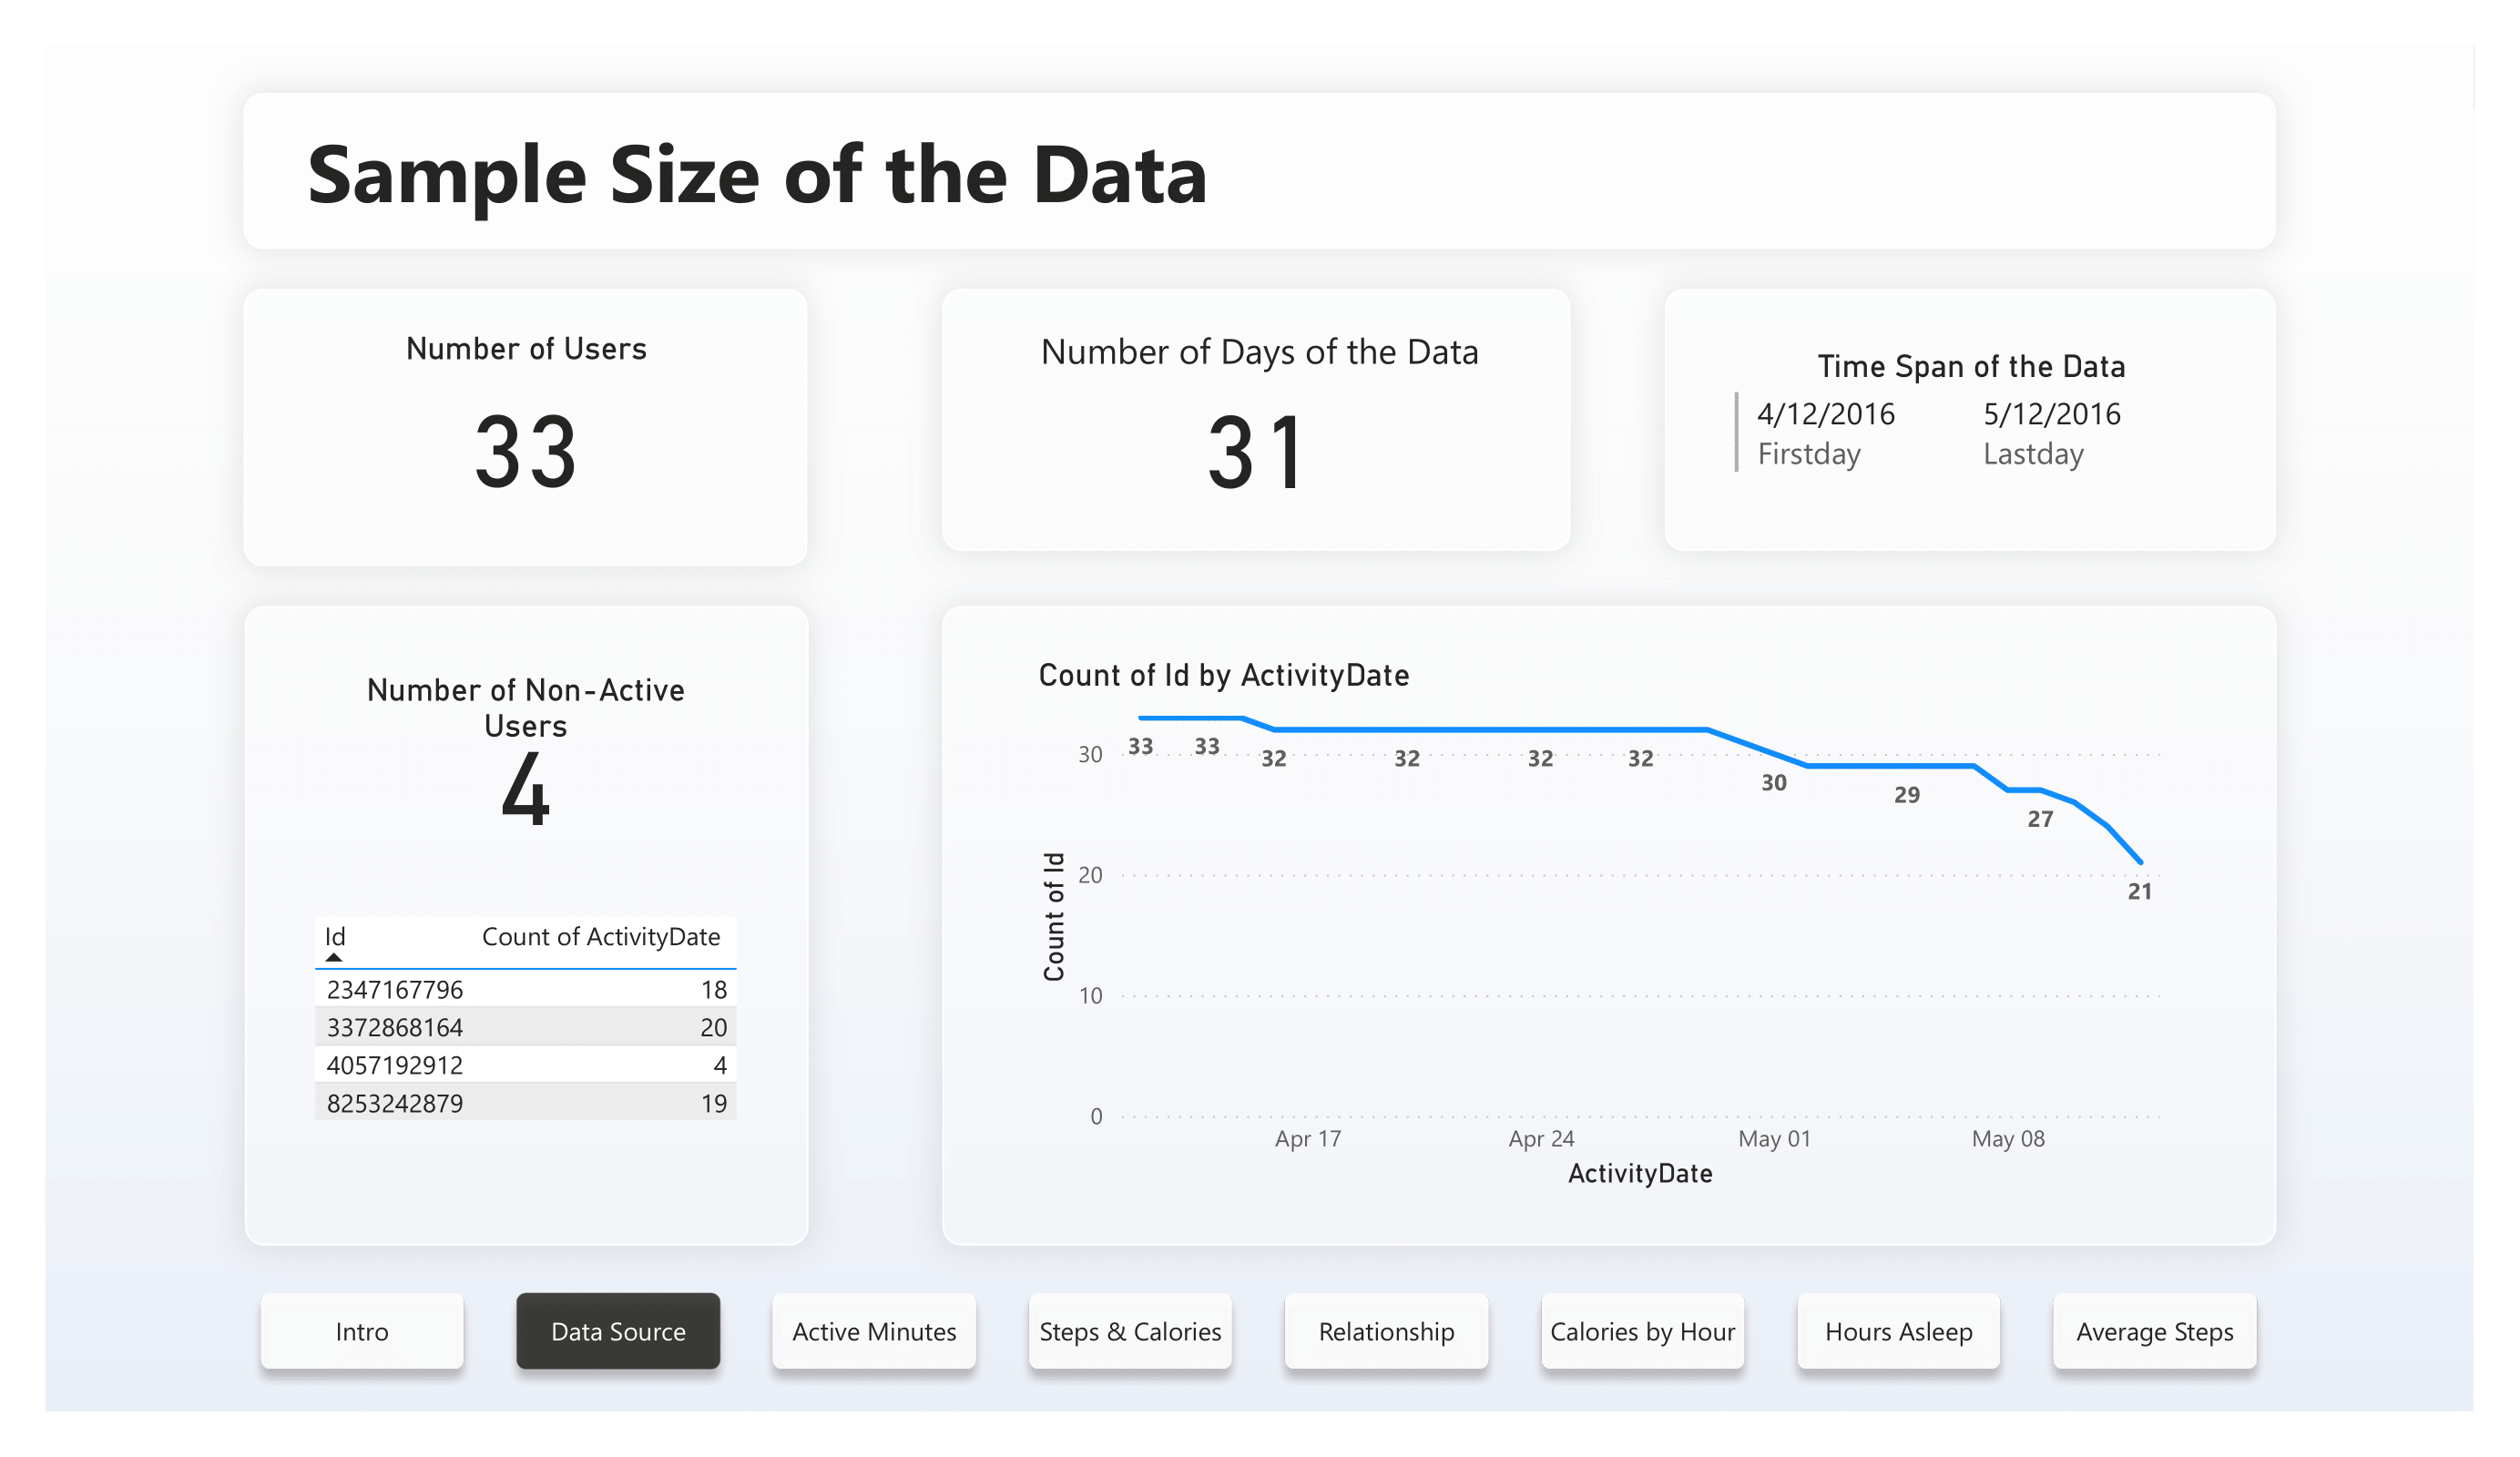

Layout of this report page (visuals, bound fields, positions):
{"tool":"powerbi","page":{"name":"Data Source","canvas":[1280,720],"ordinal":1},"visuals":[{"type":"shape","box":[104.3,25,1071.4,82.1],"z":0},{"type":"shape","box":[104.3,128.6,297.1,145.7],"z":1000},{"type":"shape","box":[105,295.7,297.1,337.1],"z":2000},{"type":"shape","box":[472.9,295.7,702.9,337.1],"z":3000},{"type":"shape","box":[853.6,128.6,322.1,137.9],"z":4000},{"type":"shape","box":[472.9,128.6,331.4,137.9],"z":5000},{"type":"lineChart","fields":{"Category":["dailyActivity_merged.ActivityDate"],"Y":["Count(dailyActivity_merged.Id)"]},"box":[518.6,321.4,610.7,285.7],"z":6000},{"type":"multiRowCard","title":"Time Span of the Data","fields":{"Values":["dailyActivity_merged.Firstday","dailyActivity_merged.Lastday"]},"box":[885,158.6,260,78.6],"z":7000},{"type":"card","title":"Number of Non-Active Users","fields":{"Values":["Non-Active Users.nonactive"]},"box":[146.4,329.3,214.3,93.6],"z":8000},{"type":"tableEx","fields":{"Values":["Non-Active Users.Id","Sum(Non-Active Users.Count of ActivityDate)"]},"box":[136.4,454.3,233.6,122.1],"z":9000},{"type":"card","title":"Number of Days of the Data","fields":{"Values":["Count(dailyActivity_merged.ActivityDate)"]},"box":[518.6,158.6,242.9,97.1],"z":10000},{"type":"card","title":"Number of Users","fields":{"Values":["dailyActivity_merged.Number of User"]},"box":[133.6,149.3,240,96.4],"z":11000},{"type":"textbox","box":[133.1,31.5,522.3,69.2],"z":12000},{"type":"textbox","box":[505,142.9,270,35.7],"z":13000},{"type":"pageNavigator","box":[104.3,648.6,1071.4,58.6],"z":14000}]}

Visuals, with their boxes in screenshot pixels (x1, y1, x2, y2):
shape: box=[243, 93, 2277, 249]
shape: box=[243, 290, 807, 565]
shape: box=[245, 606, 809, 1246]
shape: box=[943, 606, 2277, 1246]
shape: box=[1666, 290, 2277, 551]
shape: box=[943, 290, 1572, 551]
lineChart - dailyActivity_merged.ActivityDate x Count(dailyActivity_merged.Id): box=[1030, 656, 2188, 1197]
"Time Span of the Data" multiRowCard: box=[1725, 346, 2219, 495]
"Number of Non-Active Users" card: box=[323, 670, 730, 848]
tableEx - Non-Active Users.Id x Sum(Non-Active Users.Count of ActivityDate): box=[304, 907, 748, 1139]
"Number of Days of the Data" card: box=[1030, 346, 1491, 531]
"Number of Users" card: box=[299, 329, 754, 512]
textbox: box=[298, 106, 1290, 237]
textbox: box=[1004, 317, 1516, 384]
pageNavigator: box=[243, 1276, 2277, 1387]
